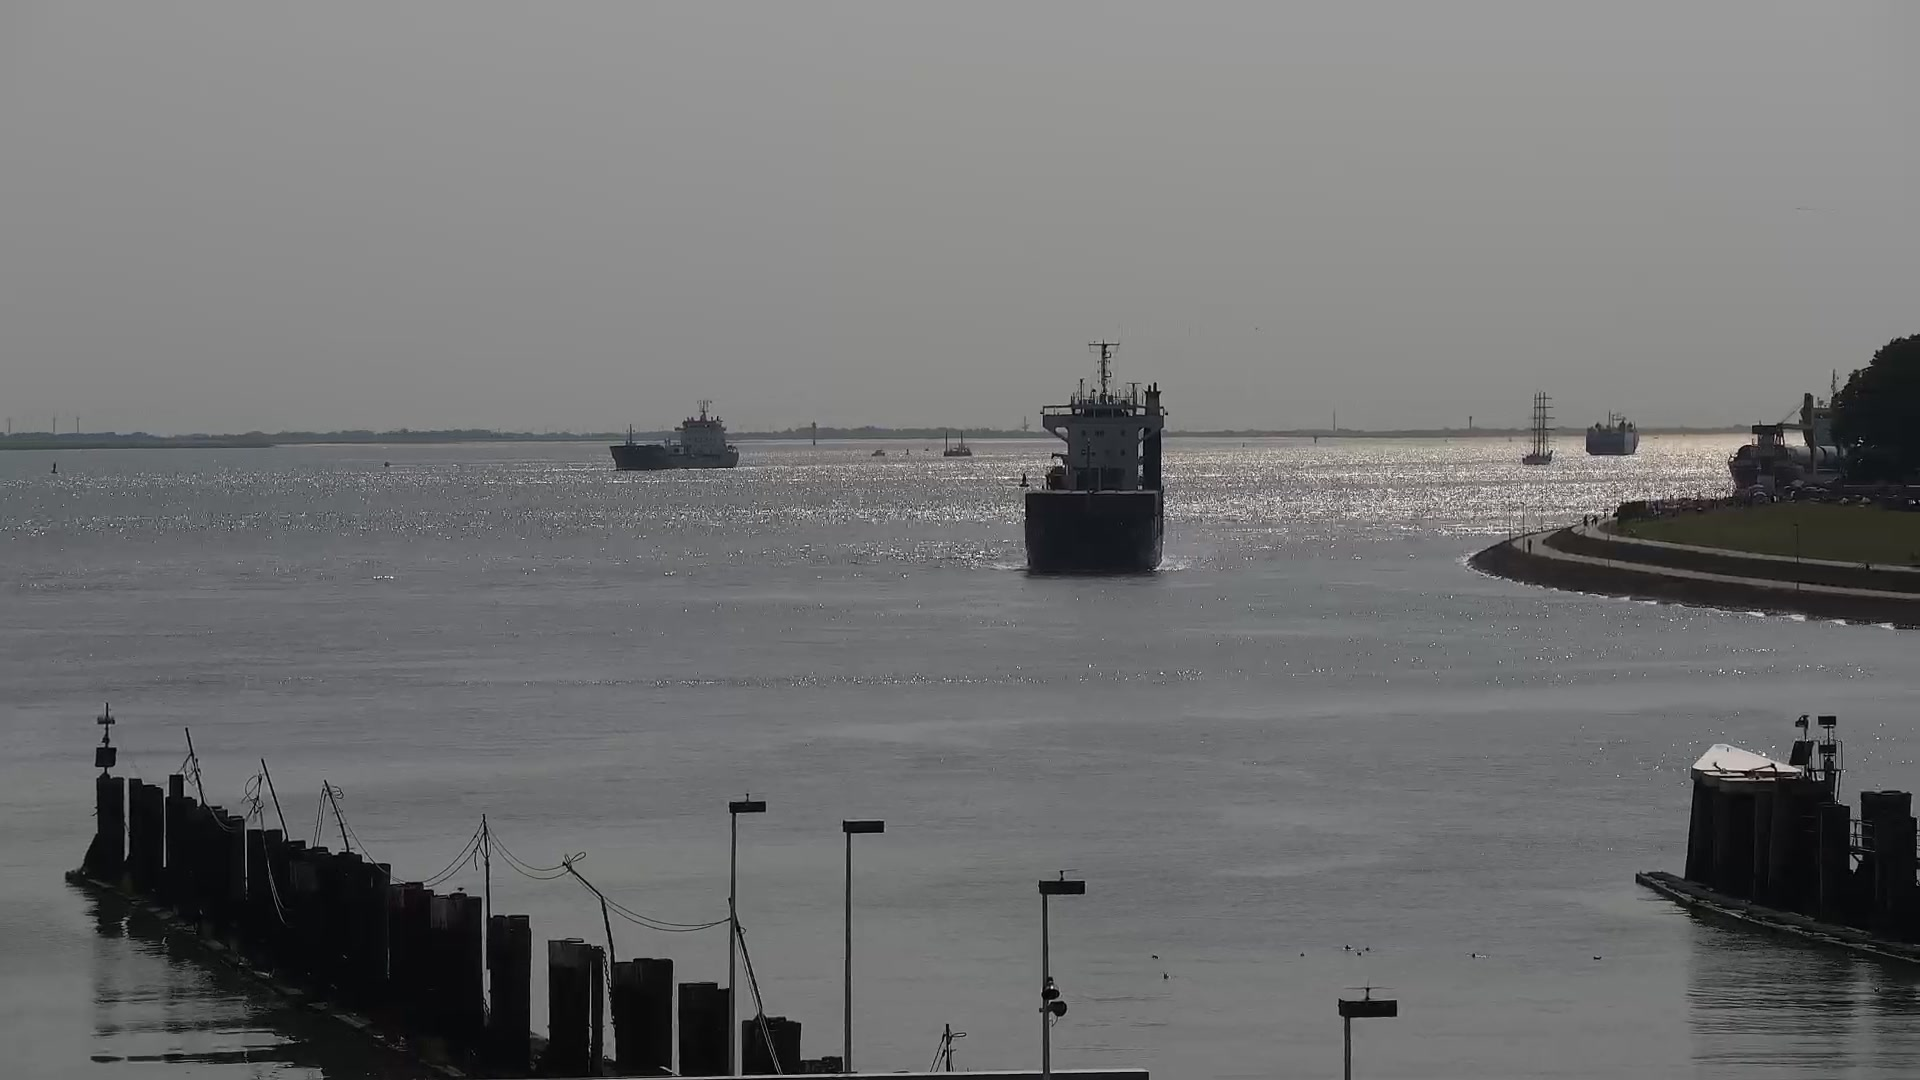sea: (1019, 339, 1168, 576), (607, 396, 741, 472), (1582, 407, 1643, 458), (1520, 389, 1557, 467), (939, 429, 975, 459)
